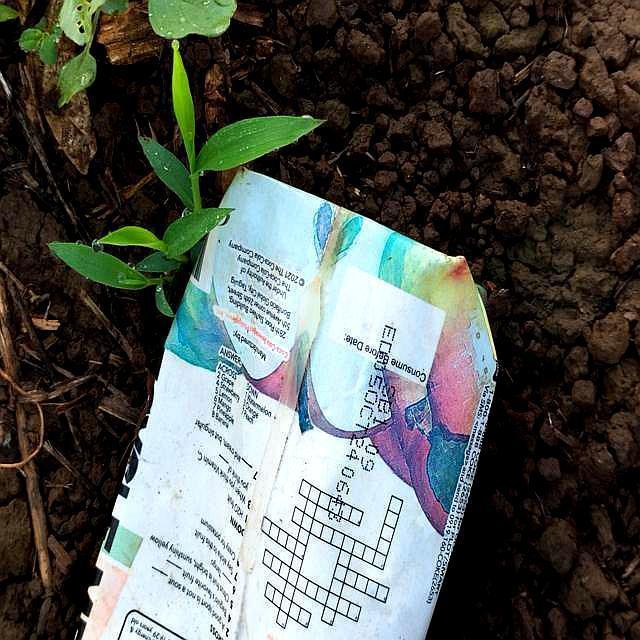Biodegradable: (66, 156, 528, 640)
